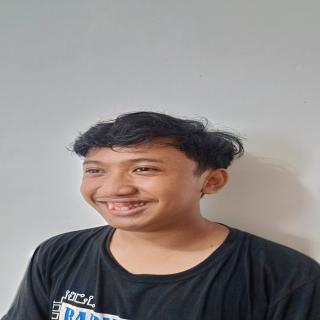Senang: (75, 133, 206, 232)
